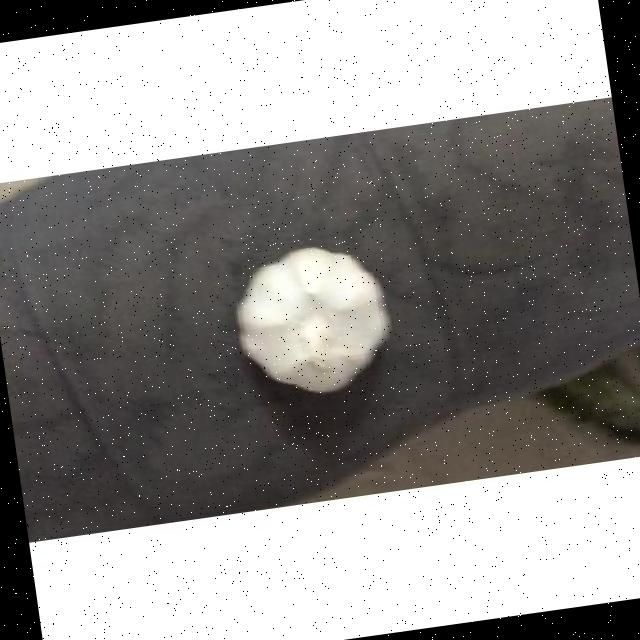garlic: (236, 246, 388, 392)
